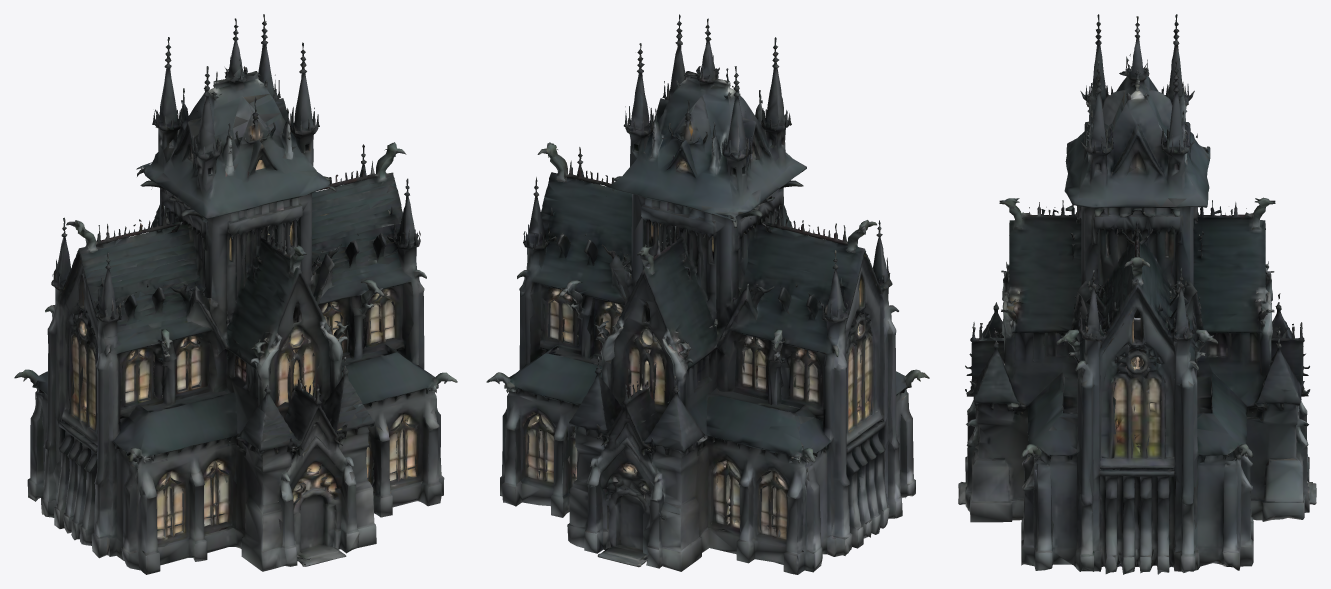
Rendered from Ghotisches_Schloss.glb.
3 views of the same model, side by side, from view 1: azimuth 30°, elevation 25°; view 2: azimuth 150°, elevation 25°; view 3: azimuth 270°, elevation 25° (orthographic).
Visible parts, largest first — view 1: Ghotisches_Schloss; view 2: Ghotisches_Schloss; view 3: Ghotisches_Schloss.
Boxes of the visible parts, <box> form: Ghotisches_Schloss: <box>14,14,457,574</box>; Ghotisches_Schloss: <box>486,14,929,574</box>; Ghotisches_Schloss: <box>958,14,1316,574</box>.
Bounding box in the file's own units: 1.39 × 1.9 × 1.29.
1 material, 1 textured.
